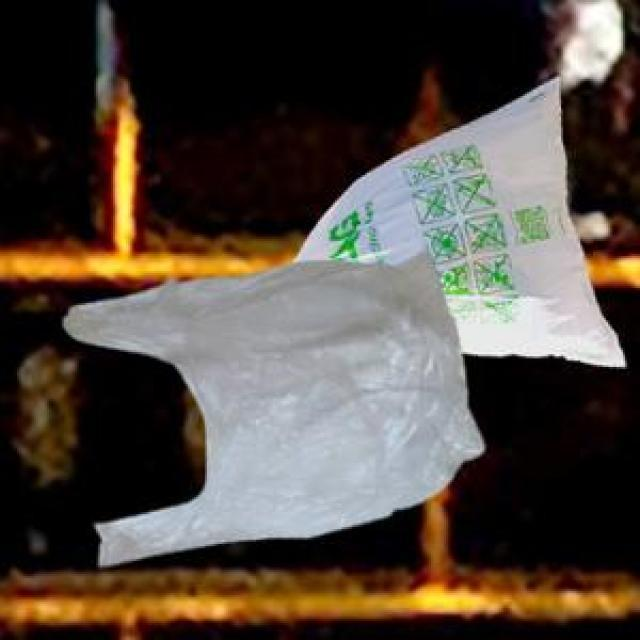waste: (64, 79, 625, 566)
